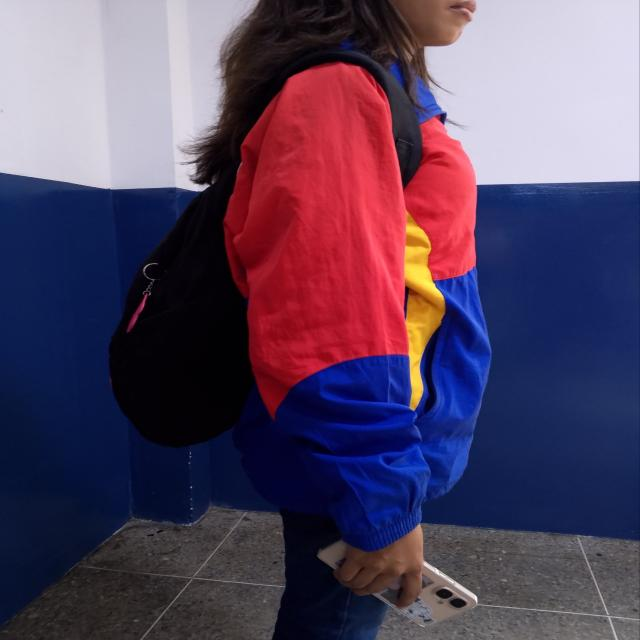chaqueta_unefa: (220, 44, 494, 552)
